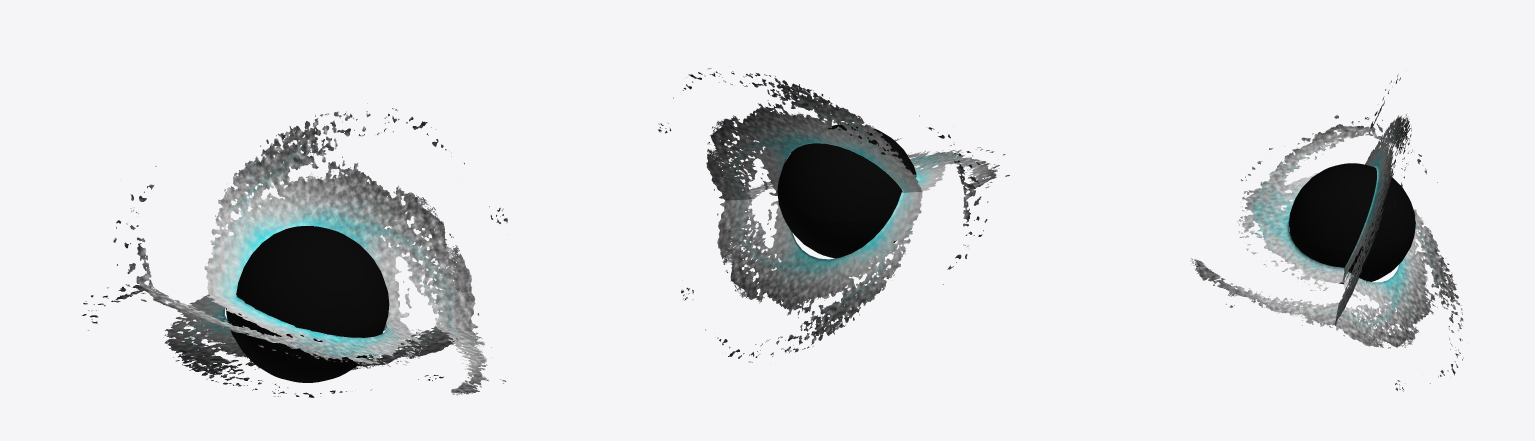
Rendered from BlackHole.fbx.
The picture shows the model from 3 angles, left to right: view 1: azimuth 30°, elevation 25°; view 2: azimuth 150°, elevation 25°; view 3: azimuth 270°, elevation 25°; orthographic projection. The views are drawn at different scales.
Parts seen in each view (by area): view 1: Holw; view 2: Holw; view 3: Holw.
Boxes of the visible parts, x1,y1,x2,y2 form: Holw: (82,103,507,397); Holw: (658,68,1009,362); Holw: (1190,74,1463,391).
Size of the model in its own units: 2713 by 2303 by 2410.
